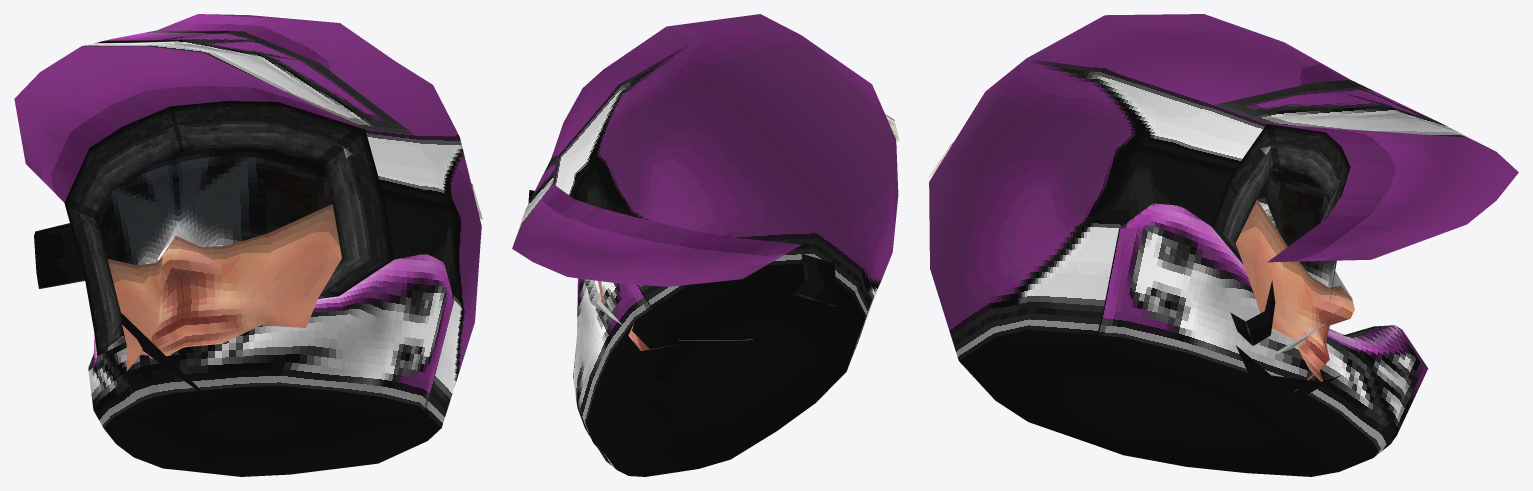
Rendered from ps2_save-icons_freestylemetalx.glb.
3 renders of one model, left to right at view 1: azimuth 30°, elevation 25°; view 2: azimuth 150°, elevation 25°; view 3: azimuth 270°, elevation 25°, orthographic. The views are drawn at different scales.
Visible parts, largest first — view 1: view.ico; view 2: view.ico; view 3: view.ico.
Part boxes in pixels (x1,y1,x2,y2): view.ico: [14, 14, 482, 476]; view.ico: [512, 14, 899, 476]; view.ico: [928, 14, 1518, 476].
Size of the model in its own units: 3.29 by 3.86 by 4.87.
1 material, 1 textured.
